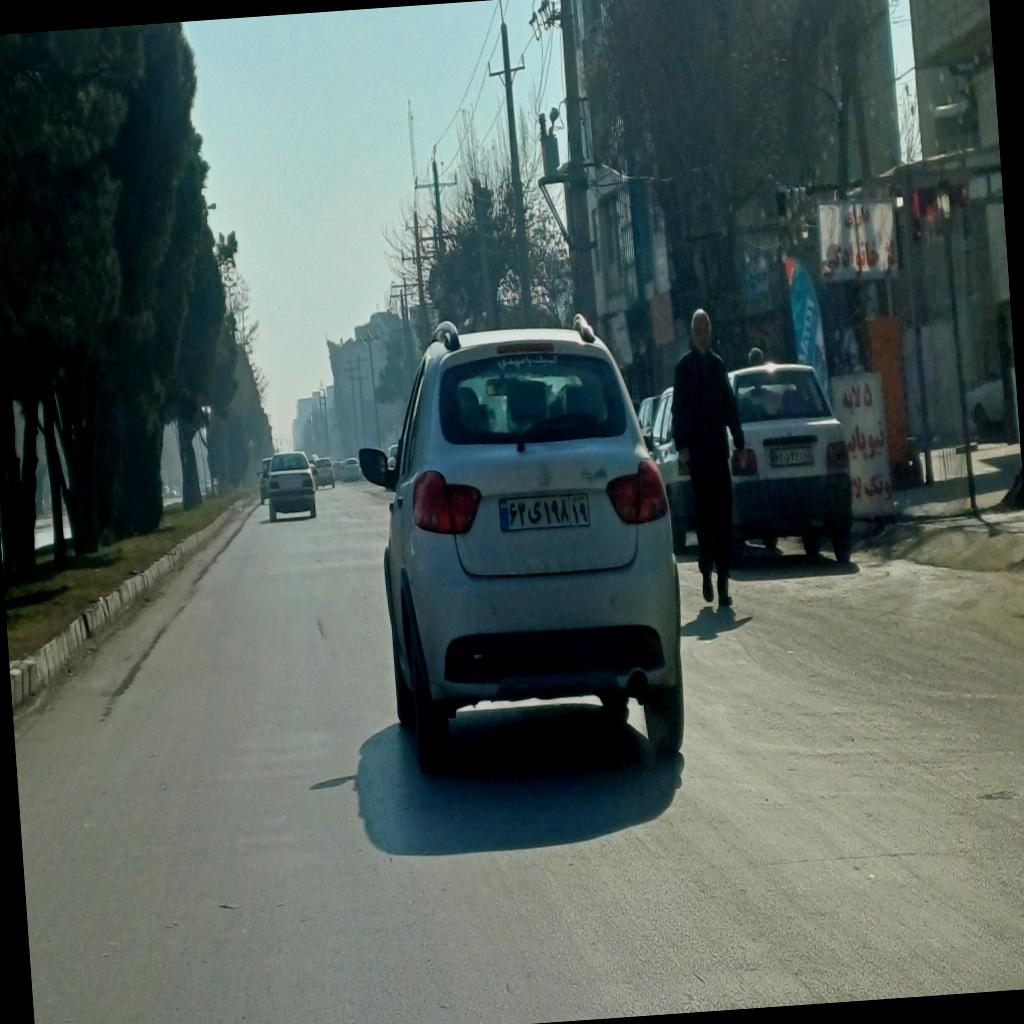Plates: (497, 491, 590, 533)
